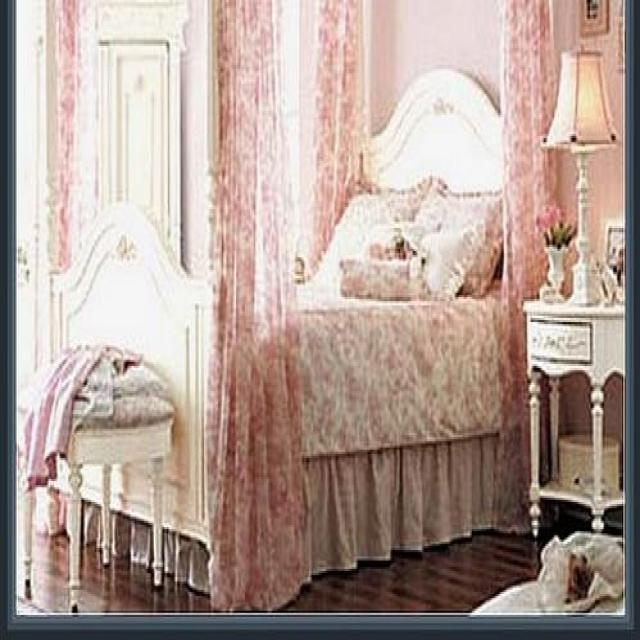bed: (50, 65, 559, 640)
